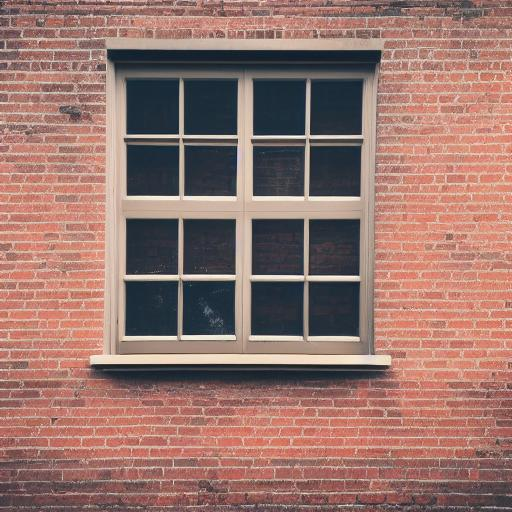Window: (86, 37, 392, 371)
